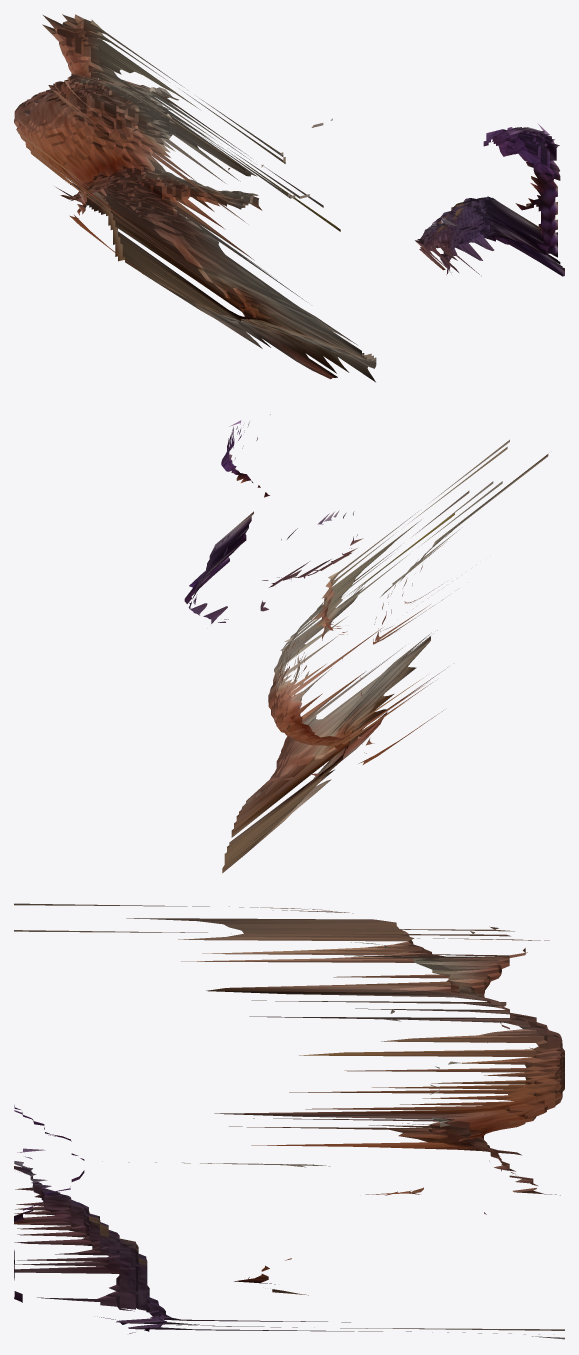
The model's file is frame_00302.glb.
The picture shows the model from 3 angles, top to bottom: view 1: azimuth 30°, elevation 25°; view 2: azimuth 150°, elevation 25°; view 3: azimuth 270°, elevation 25°; orthographic projection. The views are drawn at different scales.
Parts seen in each view (by area): view 1: geometry_0; view 2: geometry_0; view 3: geometry_0.
Part boxes in pixels (x1,y1,x2,y2): geometry_0: [14, 14, 564, 382]; geometry_0: [184, 414, 548, 873]; geometry_0: [14, 903, 564, 1339].
Size of the model in its own units: 0.1417 by 0.1144 by 0.16.
Materials: 1 (1 with a texture image).
